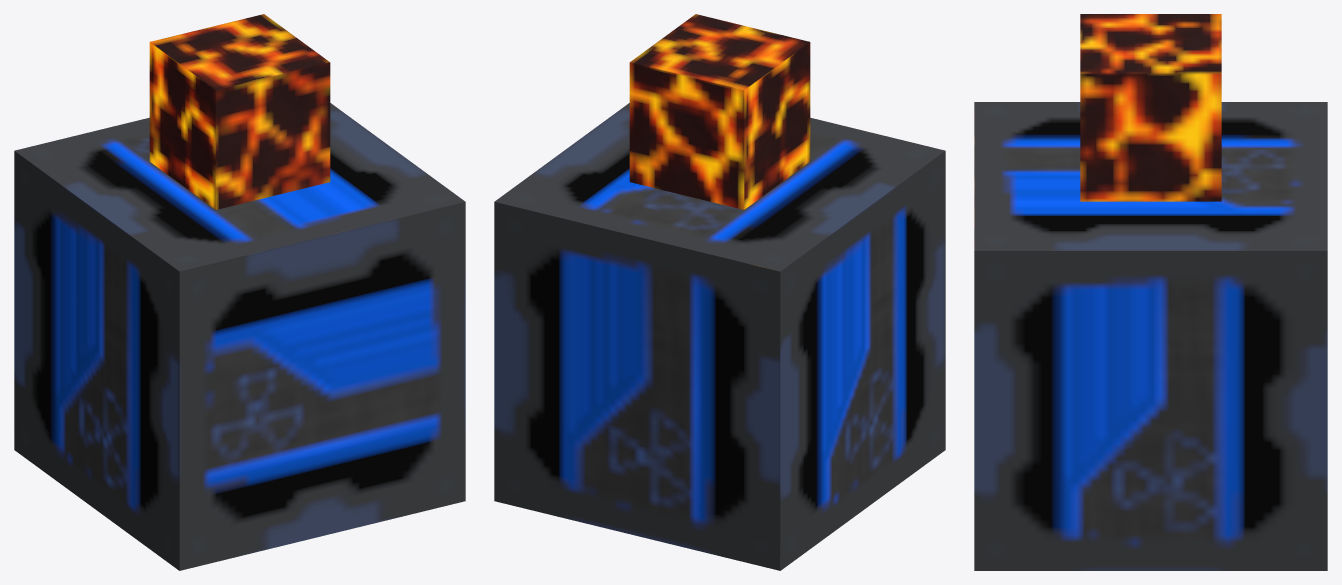
Rendered from 01_principled_material.gltf.
The picture shows the model from 3 angles, left to right: view 1: azimuth 30°, elevation 25°; view 2: azimuth 150°, elevation 25°; view 3: azimuth 270°, elevation 25°; orthographic projection. The views are drawn at different scales.
Parts seen in each view (by area): view 1: TwoCubes; view 2: TwoCubes; view 3: TwoCubes.
Part boxes in pixels (x1,y1,x2,y2): TwoCubes: (14, 14, 465, 570); TwoCubes: (494, 14, 945, 570); TwoCubes: (974, 14, 1327, 570).
Size of the model in its own units: 2 by 2.83 by 2.
1 material, 1 textured.
